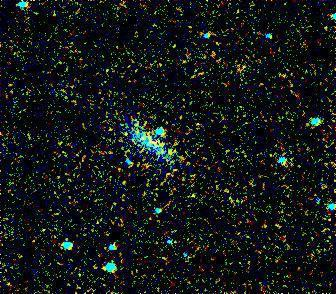star: (158, 139, 188, 169)
